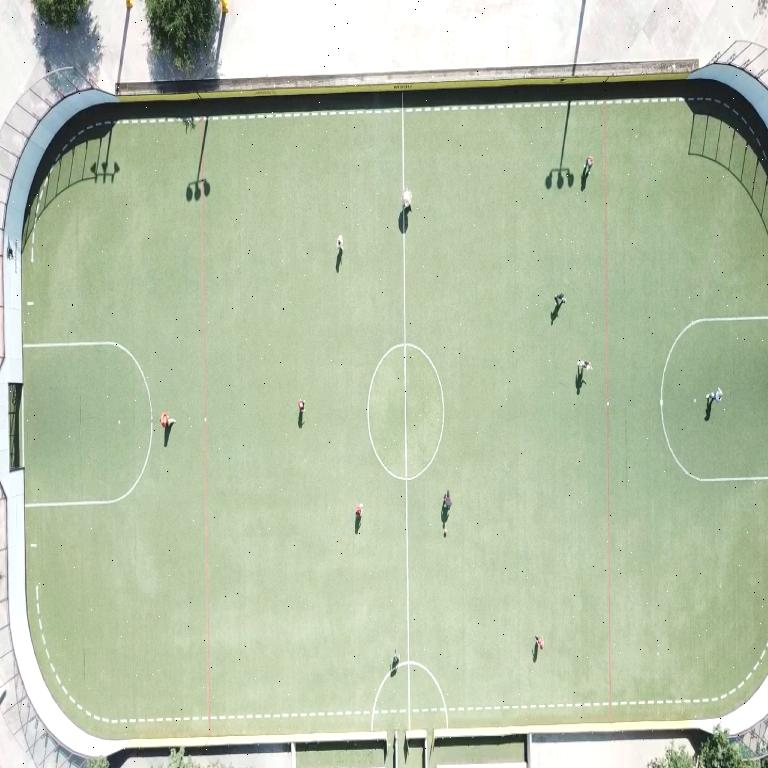AC: (23, 343, 152, 507), (660, 316, 767, 482)
B: (444, 529, 447, 535)
MC: (403, 204, 408, 662)
P: (582, 155, 593, 177), (159, 412, 174, 428), (706, 389, 722, 403), (402, 188, 411, 210), (390, 649, 398, 673), (577, 361, 591, 373), (442, 490, 450, 510), (554, 293, 564, 307), (534, 636, 542, 650), (355, 504, 361, 520), (336, 235, 342, 251), (298, 399, 303, 412)
